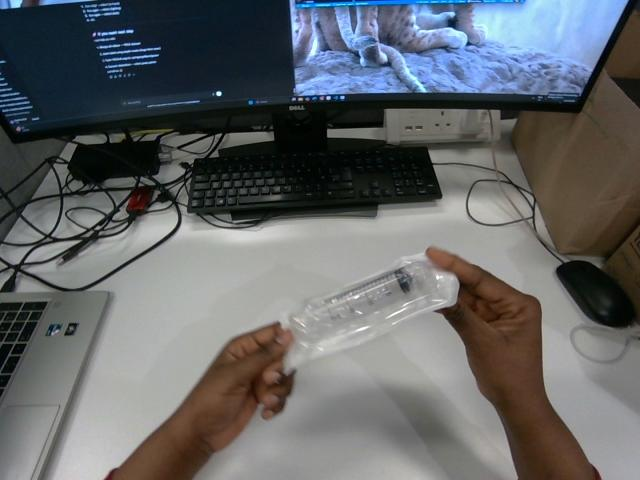syringe: (285, 254, 458, 371)
